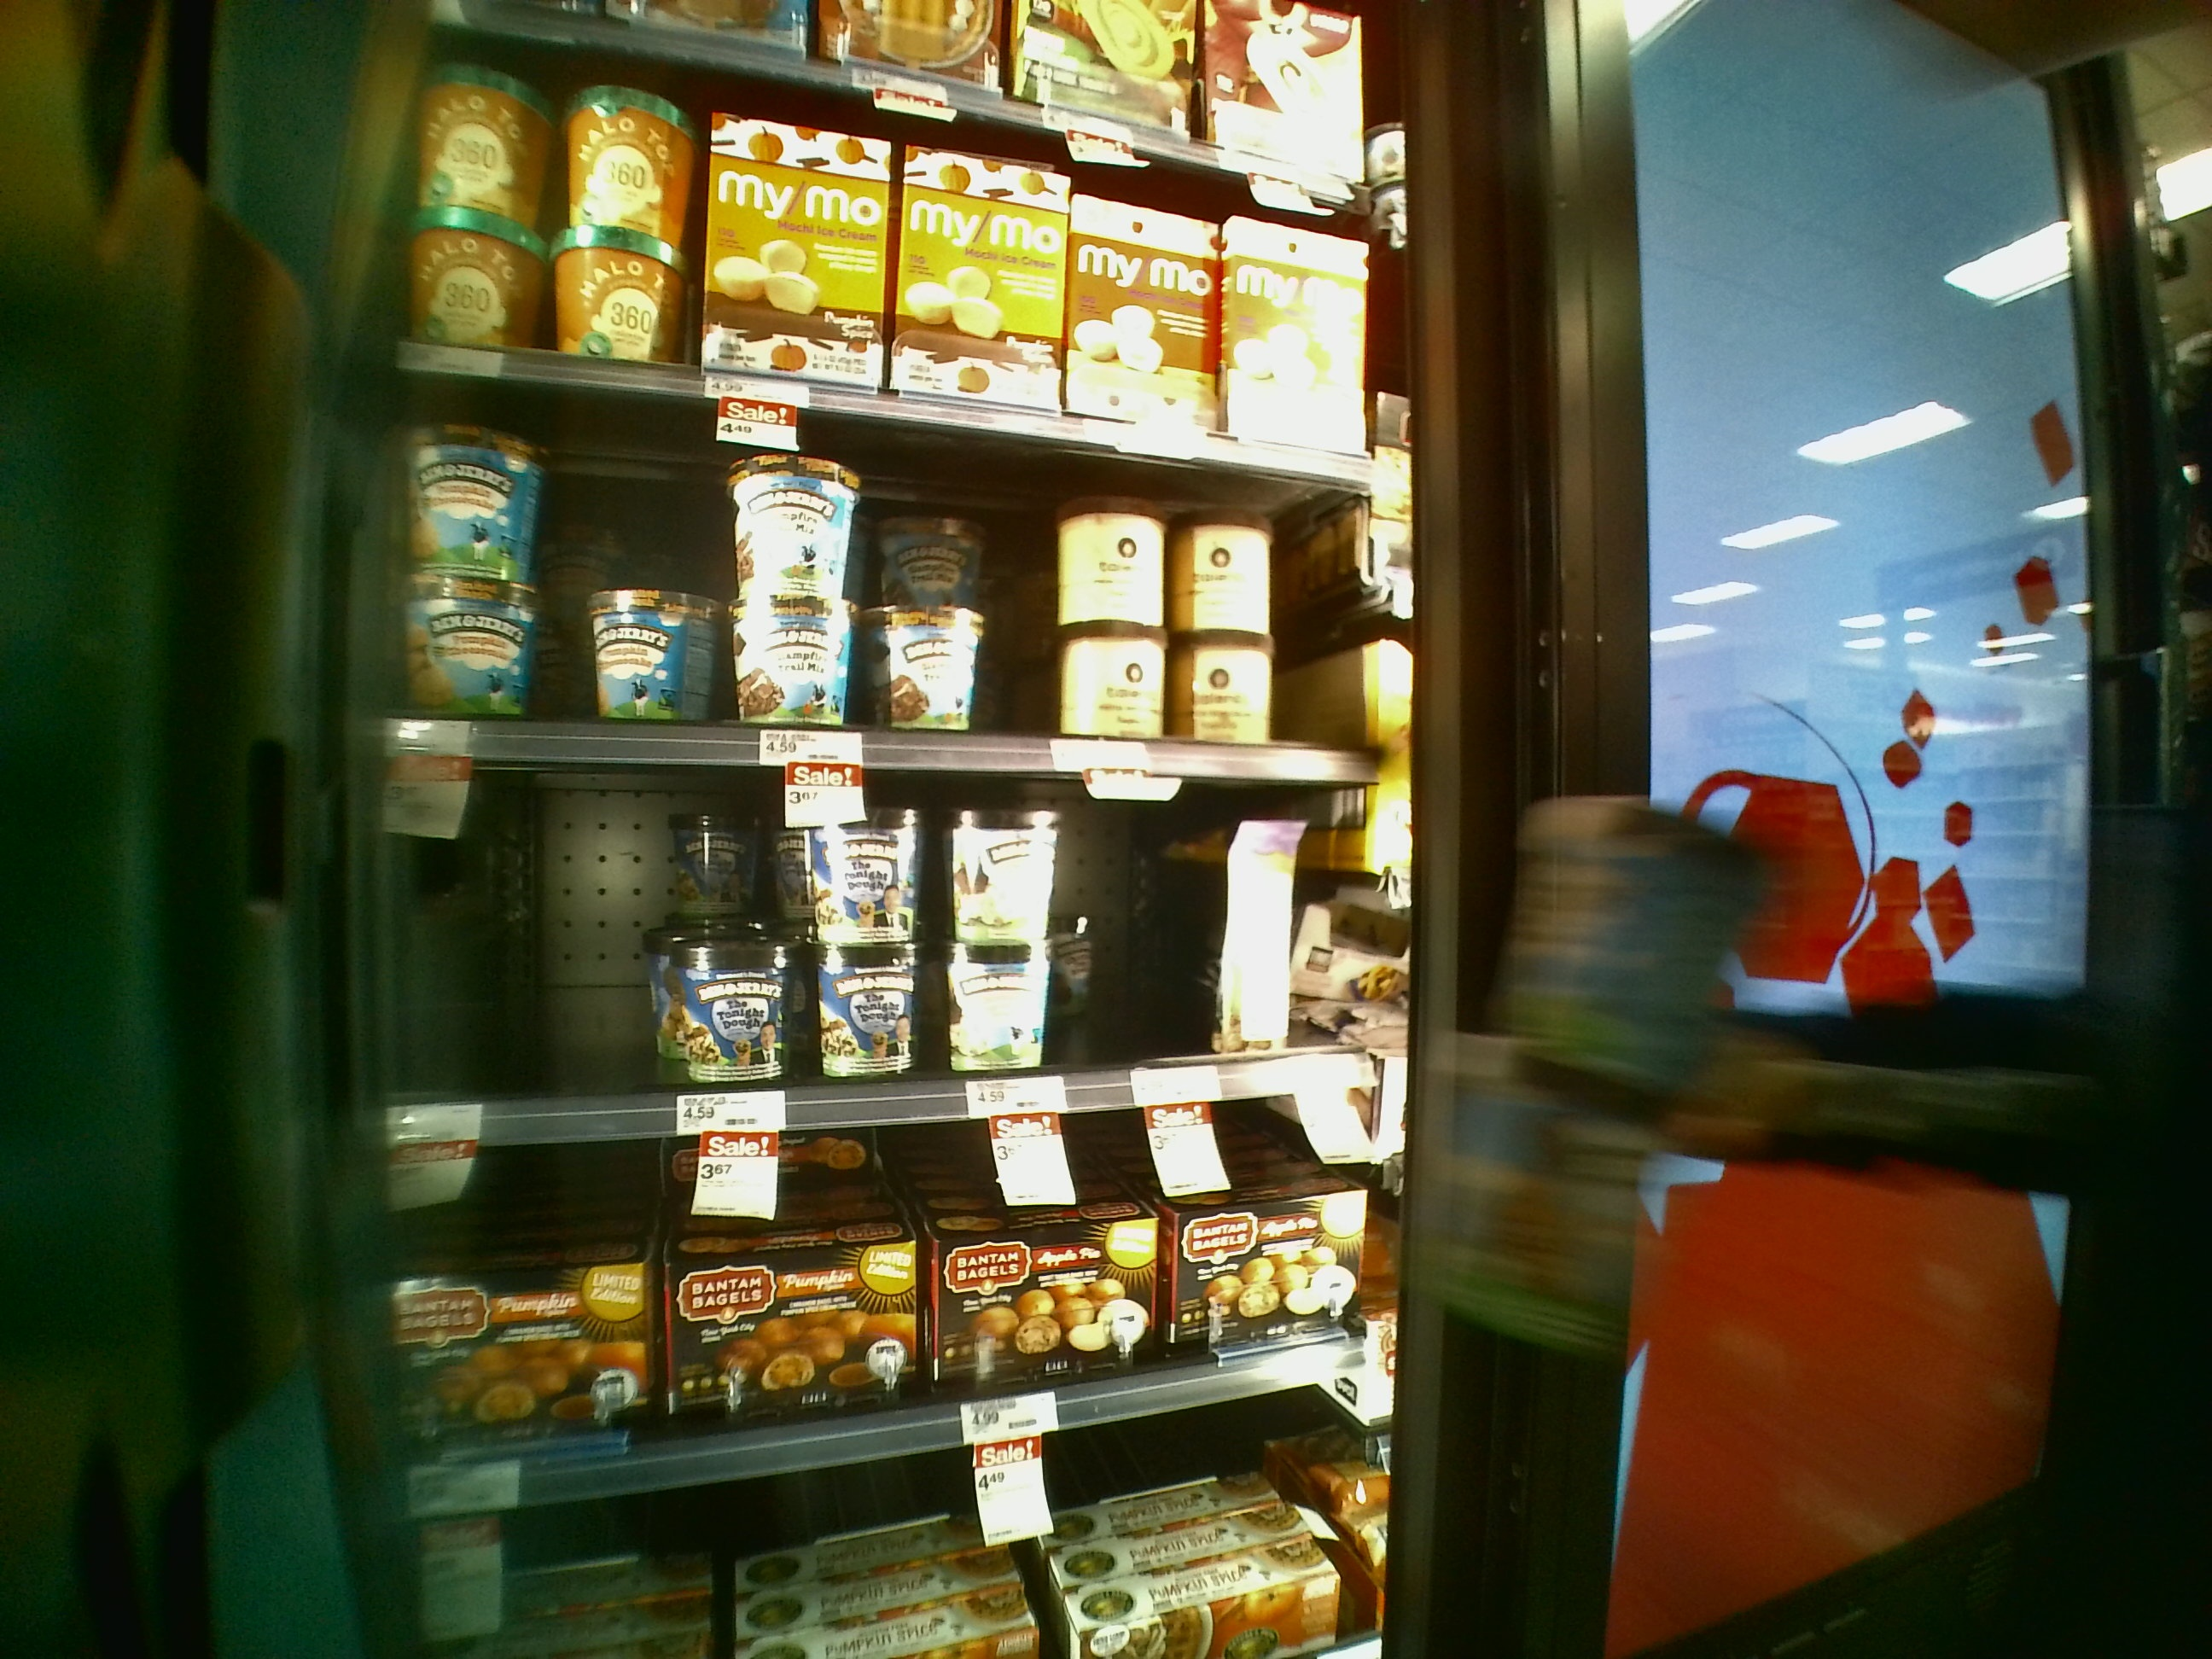shelf: (387, 369, 1378, 775), (340, 1117, 1418, 1480), (350, 741, 1404, 1107)
